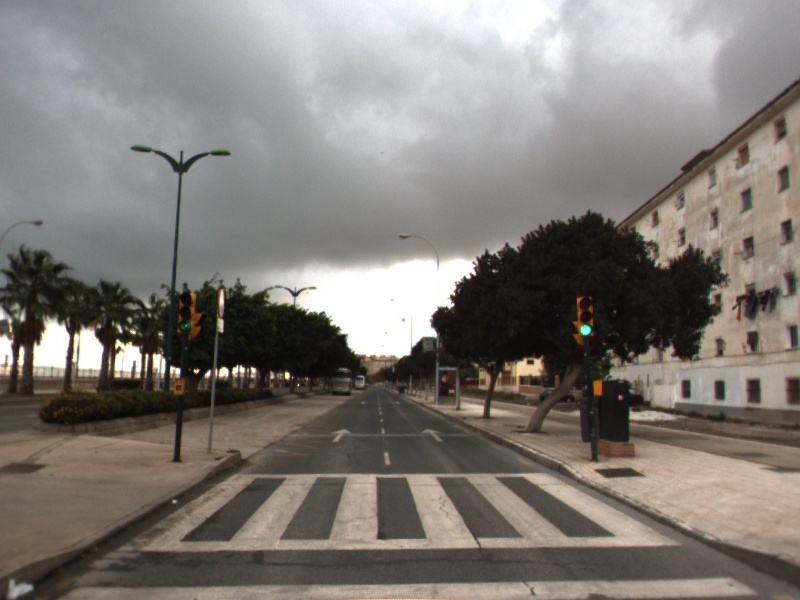STRAIGHT: (419, 426, 447, 444), (329, 426, 355, 444)
